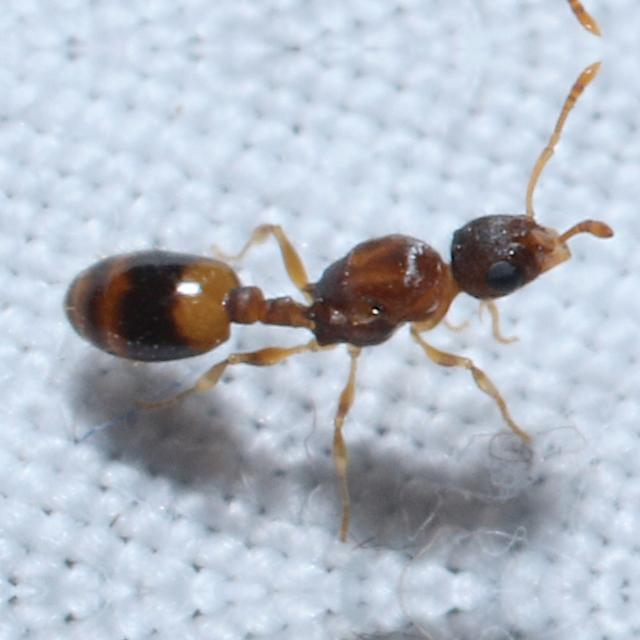Temnothorax: (79, 134, 601, 438)
